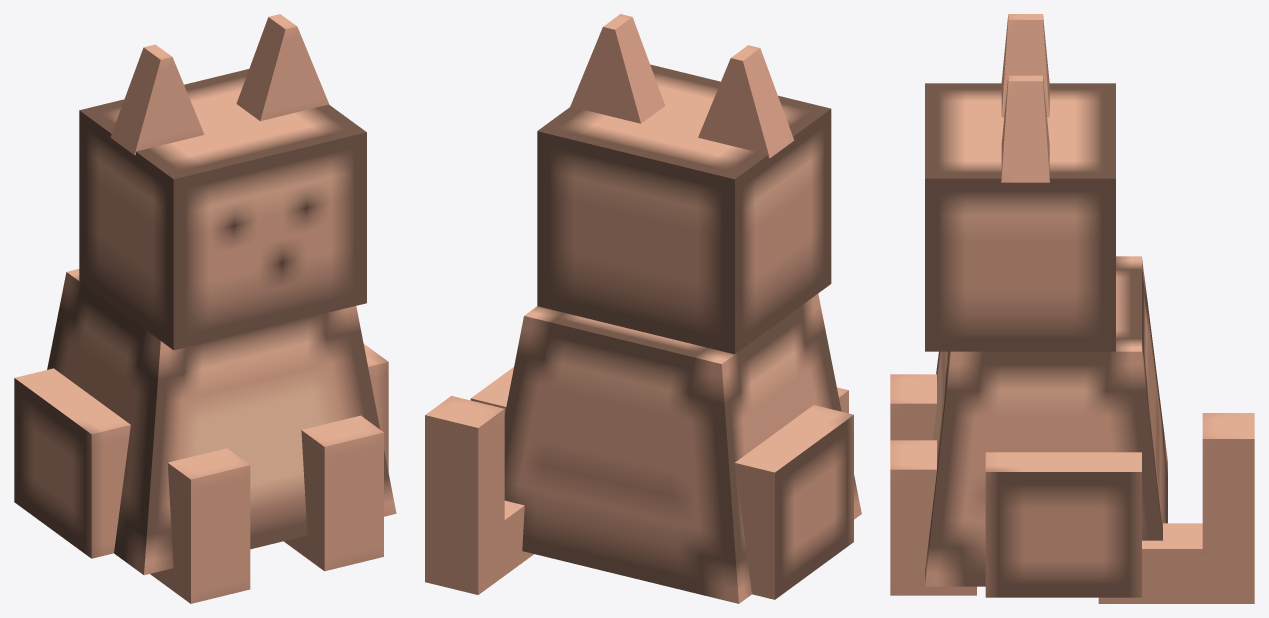
Rendered from Plush_Cat.obj.
The picture shows the model from 3 angles, left to right: view 1: azimuth 30°, elevation 25°; view 2: azimuth 150°, elevation 25°; view 3: azimuth 270°, elevation 25°; orthographic projection. The views are drawn at different scales.
Parts seen in each view (by area): view 1: Plush_Cat; view 2: Plush_Cat; view 3: Plush_Cat.
Part boxes in pixels (bbox=[...]): Plush_Cat: bbox=[14, 14, 396, 603]; Plush_Cat: bbox=[425, 14, 861, 603]; Plush_Cat: bbox=[890, 14, 1254, 603].
Size of the model in its own units: 0.2 by 0.318 by 0.21.
Materials: 1 (1 with a texture image).
